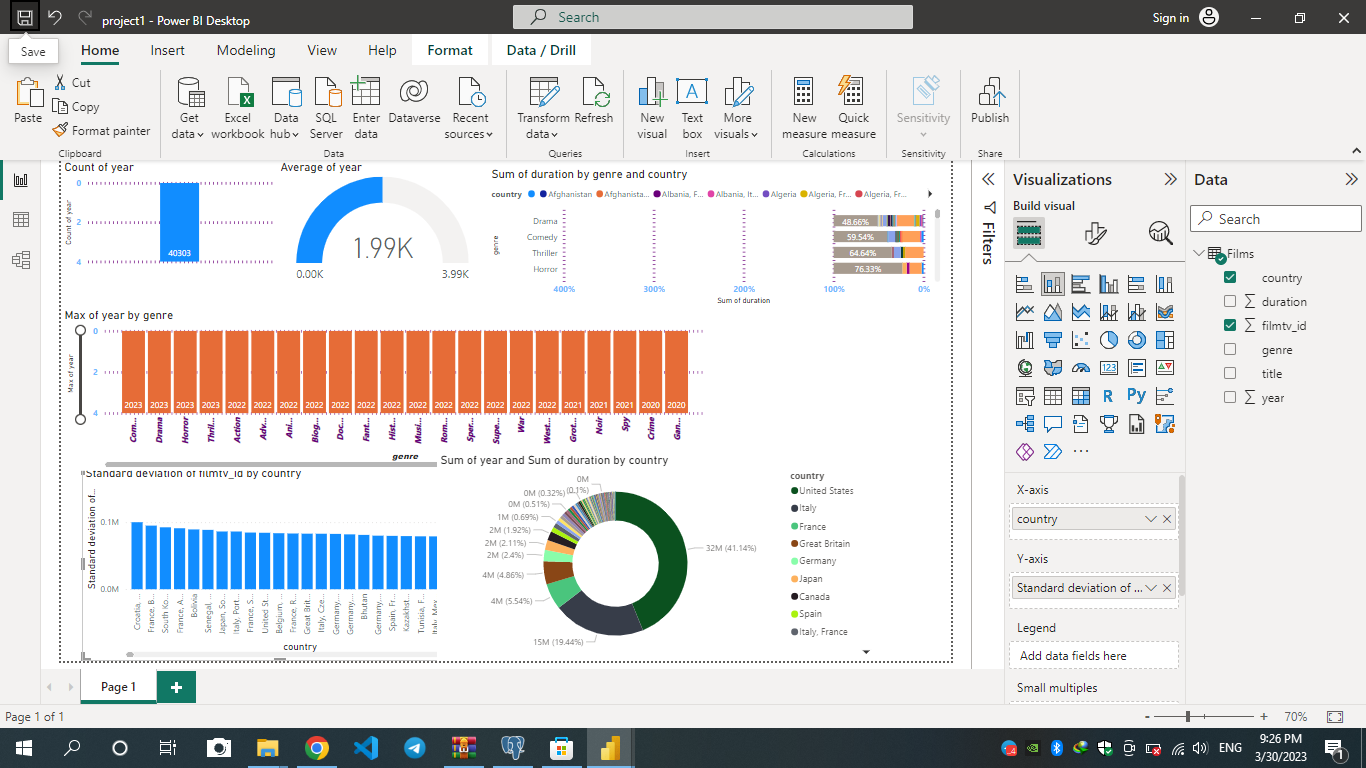

The page's visual inventory and layout, read from the dashboard file:
{"tool":"powerbi","page":{"name":"Page 1","canvas":[1280,720],"ordinal":0},"visuals":[{"type":"columnChart","fields":{"Y":["Films.year"]},"box":[0,0,310.4,159.5],"z":0},{"type":"gauge","fields":{"Y":["Films.year"]},"box":[310.4,0,303.2,184],"z":1},{"type":"columnChart","fields":{"Category":["Films.country"],"Y":["Films.filmtv_id"]},"box":[30.2,439.8,569.1,280.2],"z":2},{"type":"hundredPercentStackedBarChart","fields":{"Category":["Films.genre"],"Series":["Films.country"],"Y":["Films.duration"]},"box":[613.7,10.1,655.3,202.6],"z":3},{"type":"columnChart","fields":{"Y":["Films.year"],"Category":["Films.genre"]},"box":[0,212.7,931.3,234.3],"z":4},{"type":"donutChart","fields":{"Category":["Films.country"],"Y":["Films.year"]},"box":[540.4,421.1,728.6,298.9],"z":5}]}

Visuals, with their boxes on the page's 1280x720 design canvas (x1, y1, x2, y2). These are canvas units, not pixel positions in the 1366x768 screenshot, which may show the page scaled, cropped or inside an application window:
columnChart - Films.year: [x1=0, y1=0, x2=310, y2=160]
gauge - Films.year: [x1=310, y1=0, x2=614, y2=184]
columnChart - Films.country x Films.filmtv_id: [x1=30, y1=440, x2=599, y2=720]
hundredPercentStackedBarChart - Films.genre x Films.country: [x1=614, y1=10, x2=1269, y2=213]
columnChart - Films.year x Films.genre: [x1=0, y1=213, x2=931, y2=447]
donutChart - Films.country x Films.year: [x1=540, y1=421, x2=1269, y2=720]
